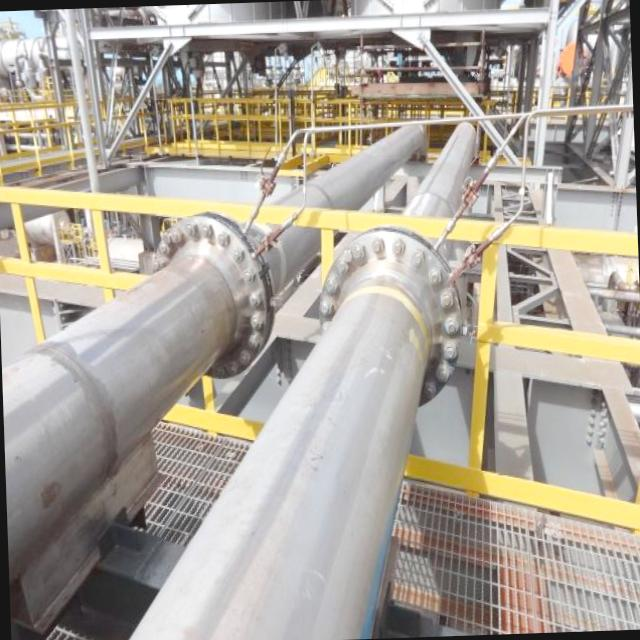gas: (2, 120, 418, 575), (125, 120, 477, 640)
